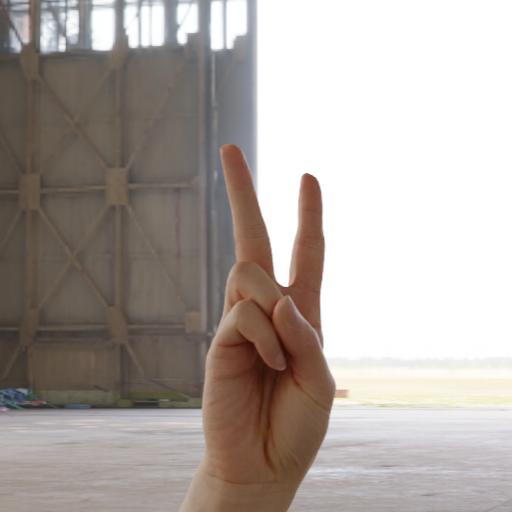V: (188, 132, 344, 484)
